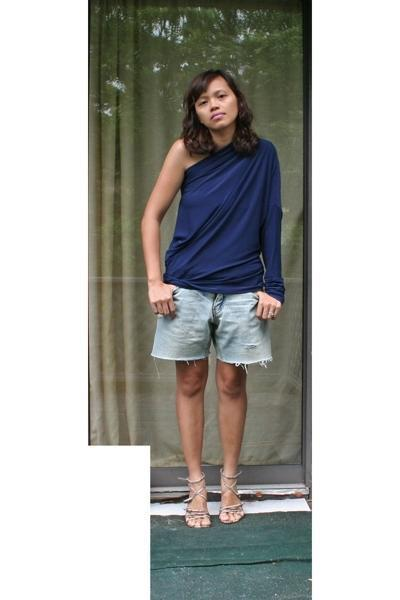shirt: (162, 139, 284, 299)
shoe: (184, 492, 244, 527)
shorts: (151, 287, 271, 371)
